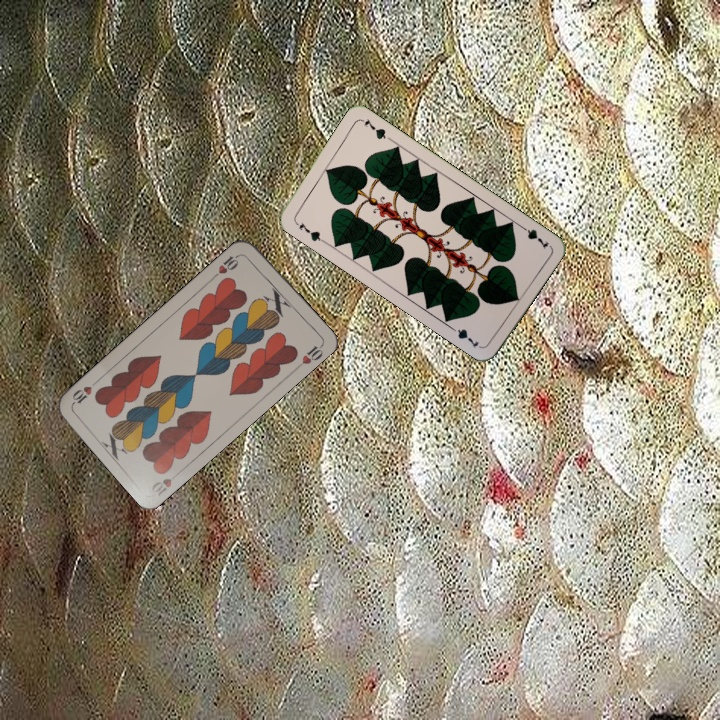G7: (515, 221, 552, 252), (291, 217, 327, 245)
H10: (147, 467, 184, 498), (210, 250, 244, 280)
